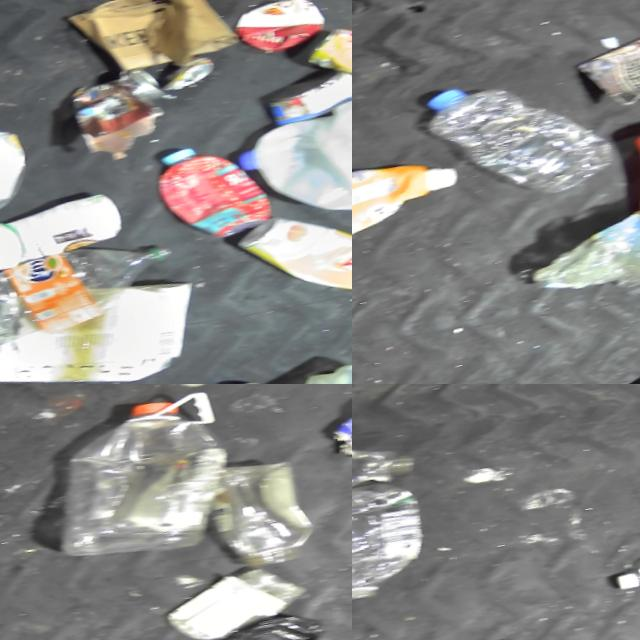can: (567, 4, 640, 116), (262, 56, 352, 128), (298, 11, 352, 88), (157, 49, 223, 92), (114, 60, 172, 105), (451, 625, 574, 640), (325, 399, 352, 464)
milk_jug: (229, 80, 352, 231)
non_white_jug: (38, 384, 254, 572), (352, 145, 474, 261)
plastic_bottle: (413, 52, 637, 215), (0, 224, 195, 372), (526, 186, 640, 310), (352, 471, 446, 618), (352, 414, 431, 520), (601, 519, 640, 602)
